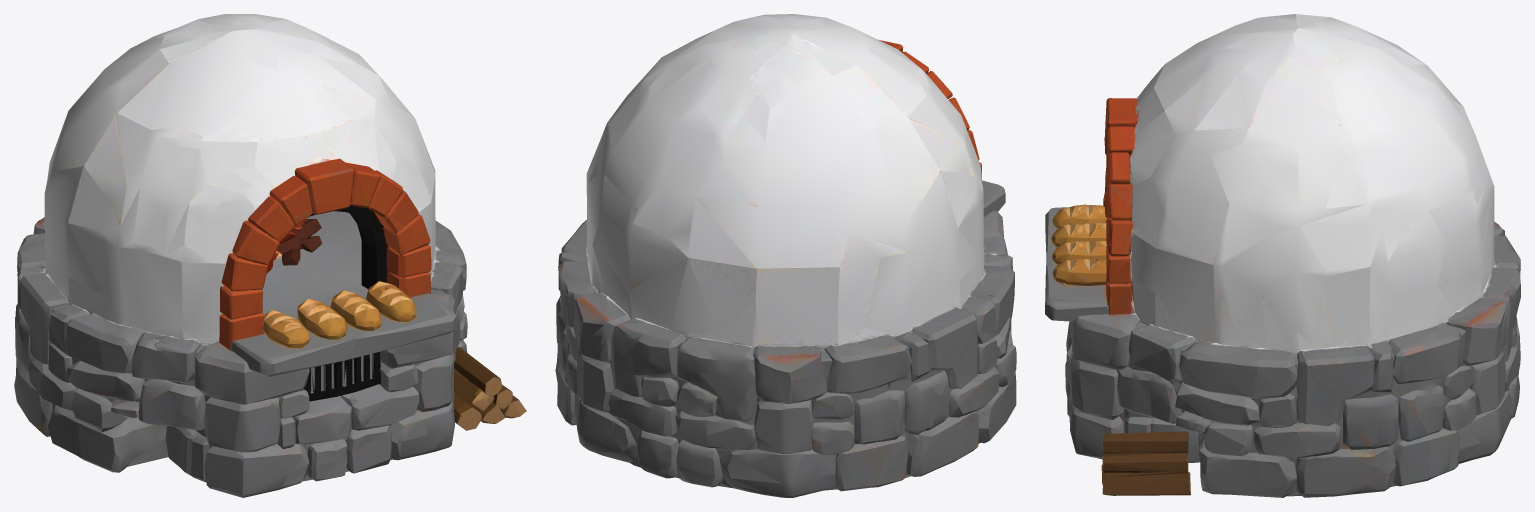
The model's file is toy-oven.glb.
3 renders of one model, left to right at view 1: azimuth 30°, elevation 25°; view 2: azimuth 150°, elevation 25°; view 3: azimuth 270°, elevation 25°, orthographic. The views are drawn at different scales.
Parts seen in each view (by area): view 1: Mesh_0; view 2: Mesh_0; view 3: Mesh_0.
Boxes of the visible parts, box(x1,y1,x2,y2) form: Mesh_0: box(14, 14, 526, 497); Mesh_0: box(555, 14, 1016, 497); Mesh_0: box(1045, 14, 1520, 497).
Size of the model in its own units: 1.86 by 1.64 by 1.9.
1 material, 1 textured.
